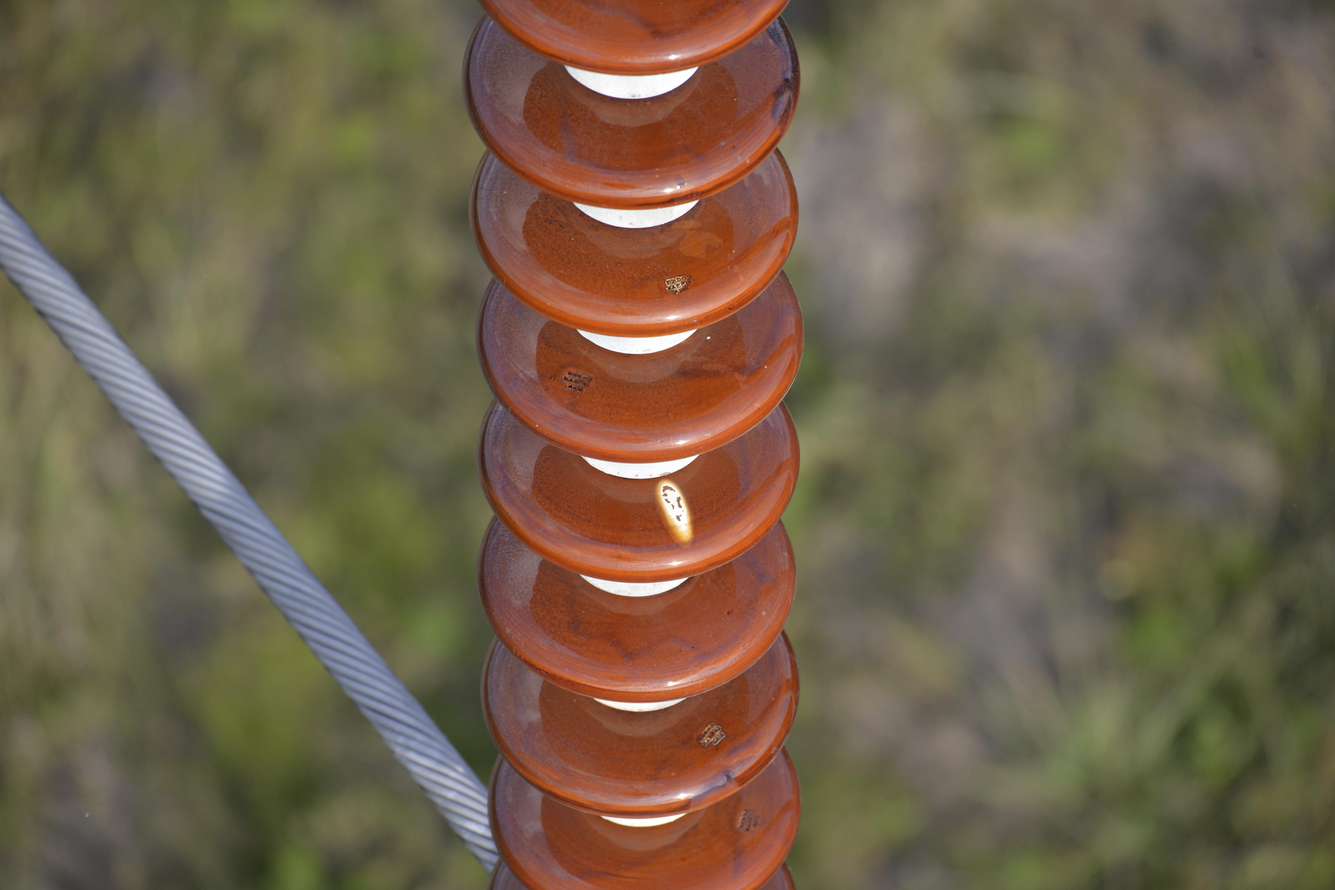Flashover: (650, 479, 702, 551)
insulator: (464, 0, 810, 890)
